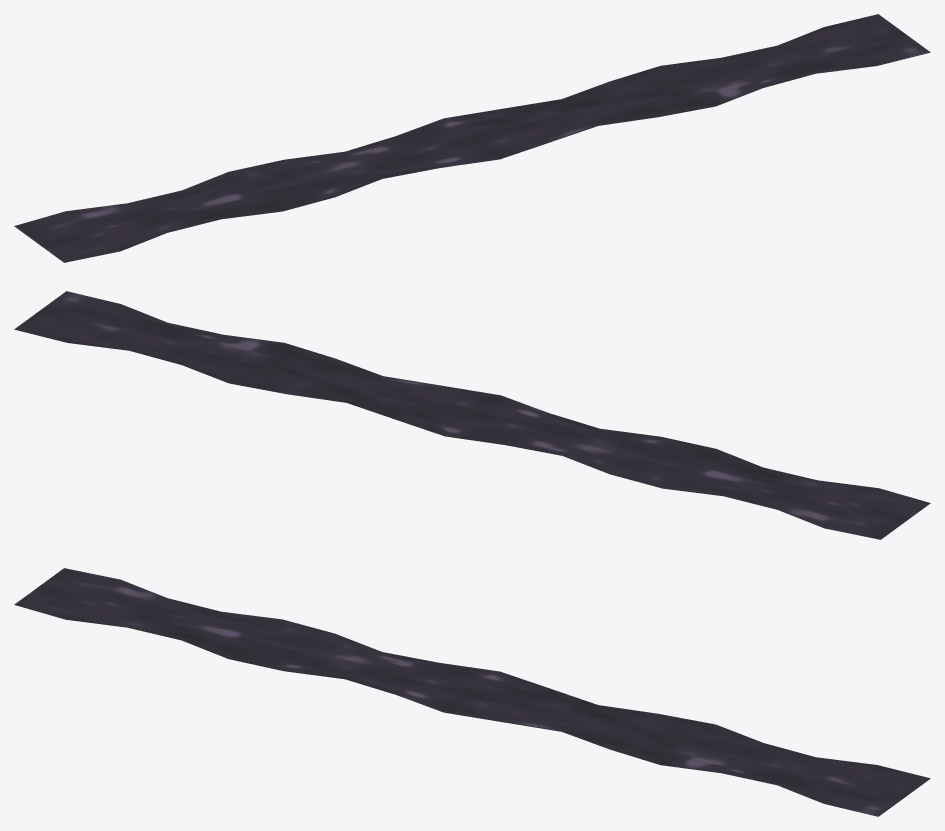
Rendered from EF_B08_LavaSurface.fbx.
3 renders of one model, top to bottom at view 1: azimuth 30°, elevation 25°; view 2: azimuth 150°, elevation 25°; view 3: azimuth 330°, elevation 25°, orthographic.
Parts seen in each view (by area): view 1: CrustStrip; view 2: CrustStrip; view 3: CrustStrip.
Part boxes in pixels (box(x1,y1,x2,y2)): CrustStrip: box(14, 14, 930, 262); CrustStrip: box(14, 291, 930, 539); CrustStrip: box(14, 568, 930, 816).
Size of what is drawn, in the model's own units: 8 by 0 by 0.8985.
